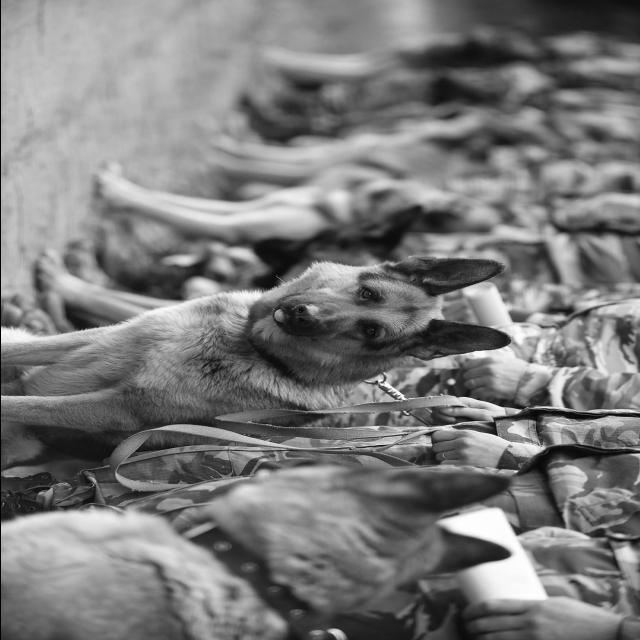Dogs: (1, 253, 509, 469), (0, 455, 521, 640), (28, 207, 429, 427)
